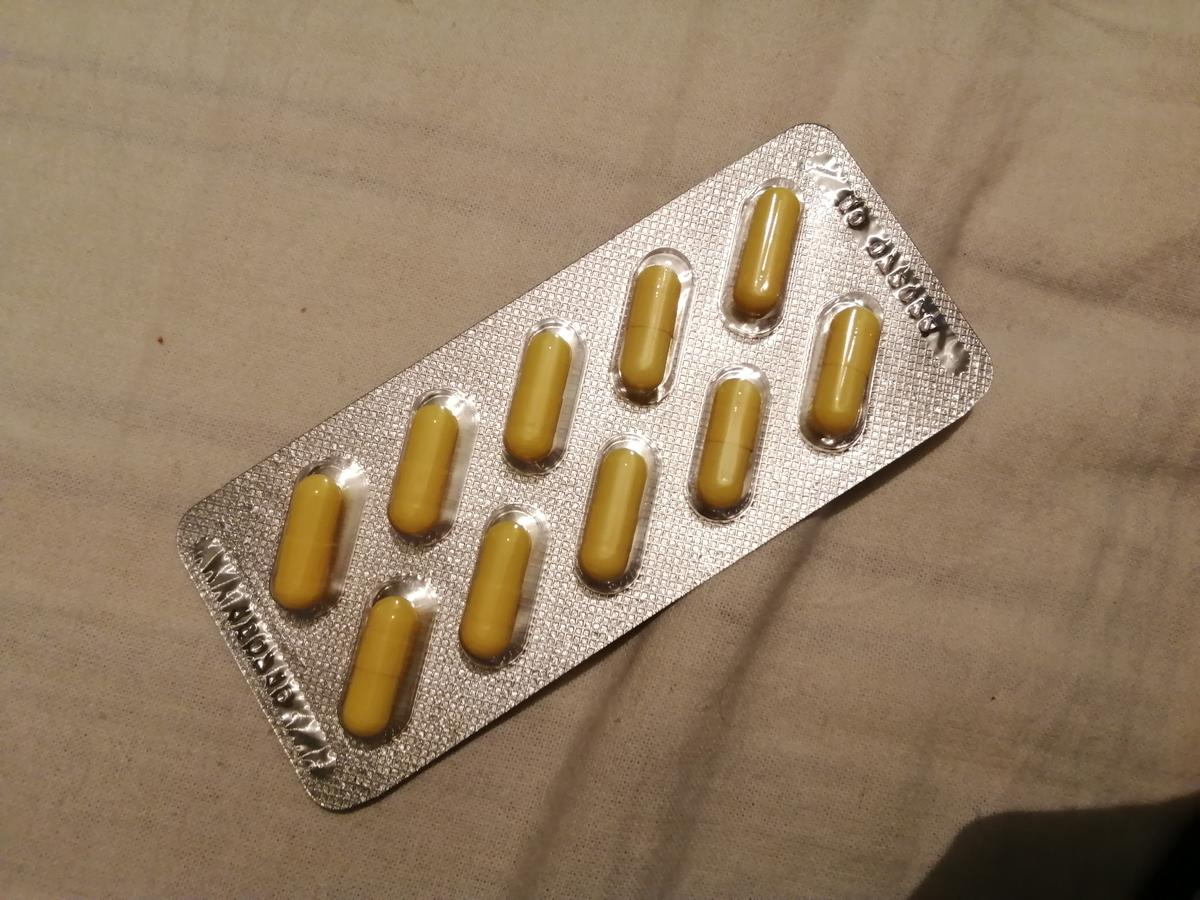capsule: (339, 591, 420, 738), (501, 325, 580, 463), (460, 518, 536, 661), (576, 446, 649, 591), (270, 469, 339, 616), (810, 303, 884, 440), (733, 189, 806, 326), (386, 399, 459, 536), (696, 376, 765, 513), (616, 263, 683, 393)
